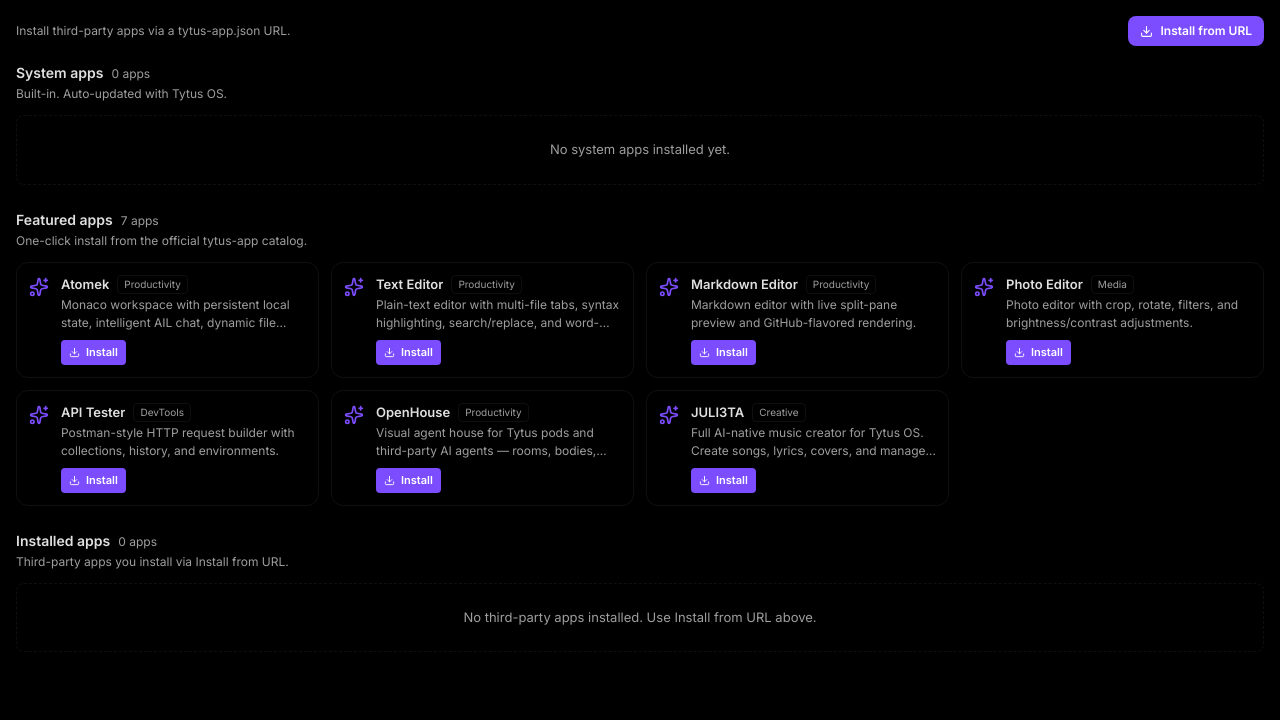
Test: TytusAppsTab › opens the install modal when the Install from URL button is clicked
Click the button with test id "tytus-apps-install-from-url".
click(1196, 31)  # box [1128, 16, 1264, 46]
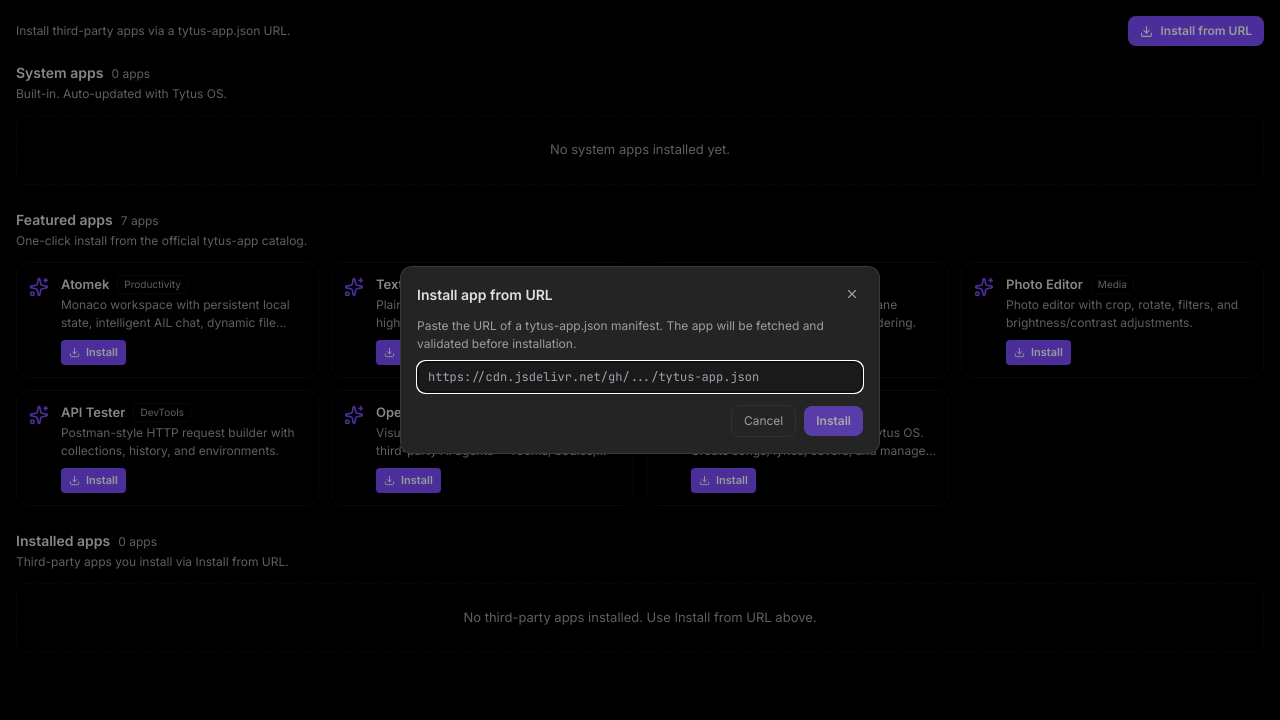
Expected: the element with test id "tytus-apps-install-modal" is shown
Expected: the field with test id "tytus-apps-install-modal-input" is shown, [417, 361, 863, 393]
